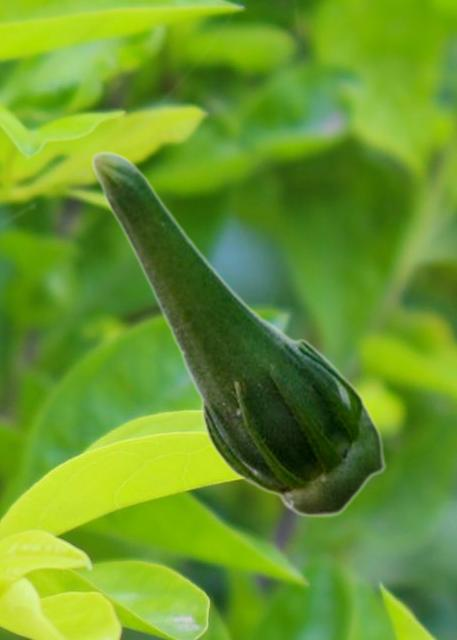okra: (90, 150, 385, 517)
